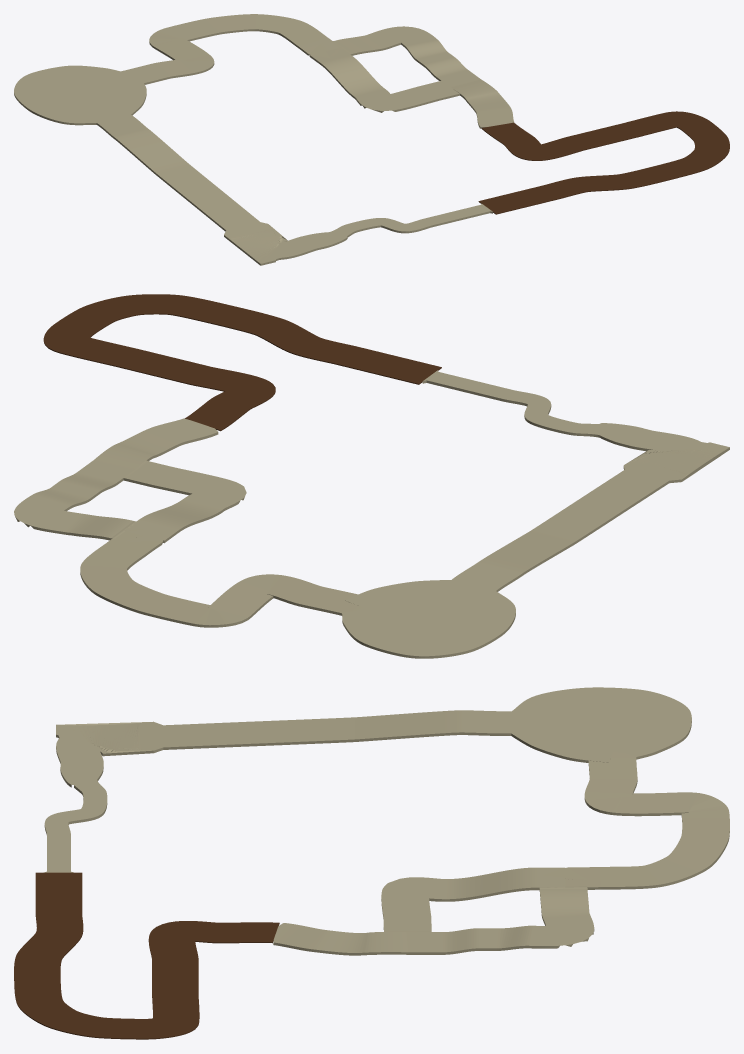
File: driving_surfaces.glb
3 renders of one model, top to bottom at view 1: azimuth 30°, elevation 25°; view 2: azimuth 150°, elevation 25°; view 3: azimuth 270°, elevation 25°, orthographic. The views are drawn at different scales.
Parts seen in each view (by area): view 1: PavedStreets, TimberDecks; view 2: PavedStreets, TimberDecks; view 3: PavedStreets, TimberDecks.
Boxes of the visible parts, x1,y1,x2,y2 form: PavedStreets: [14, 14, 514, 265]; TimberDecks: [478, 111, 729, 214]; PavedStreets: [14, 370, 729, 658]; TimberDecks: [43, 294, 441, 431]; PavedStreets: [44, 687, 729, 955]; TimberDecks: [14, 872, 279, 1039].
Size of the model in its own units: 330 by 9.7 by 300.
